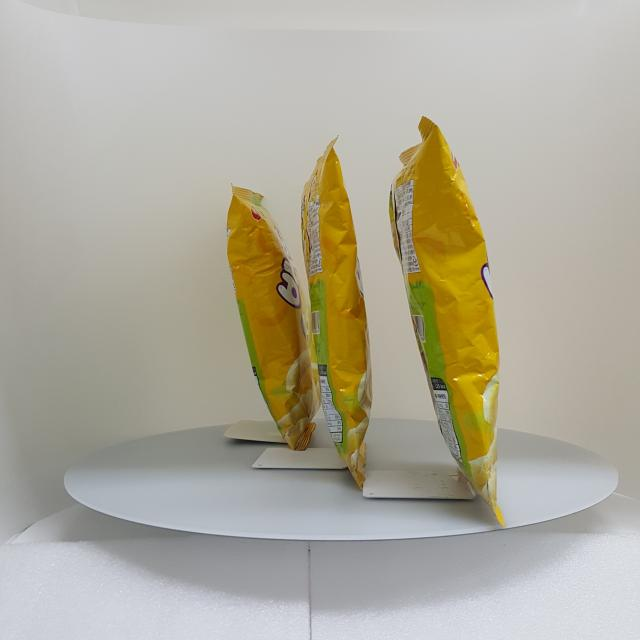-75G: (390, 117, 506, 528), (228, 184, 331, 452), (302, 136, 373, 492)
